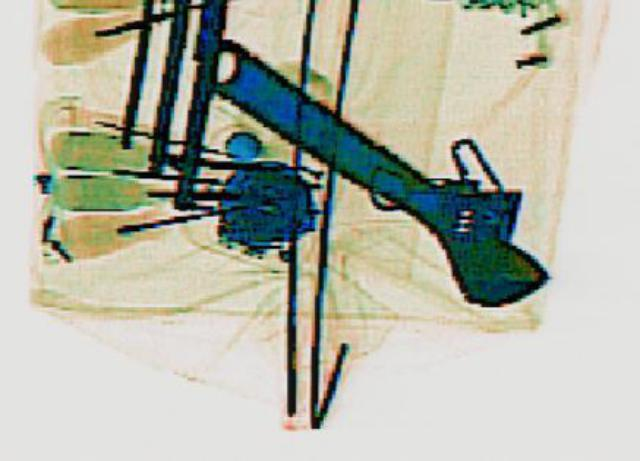Wrench: (144, 9, 600, 316)
